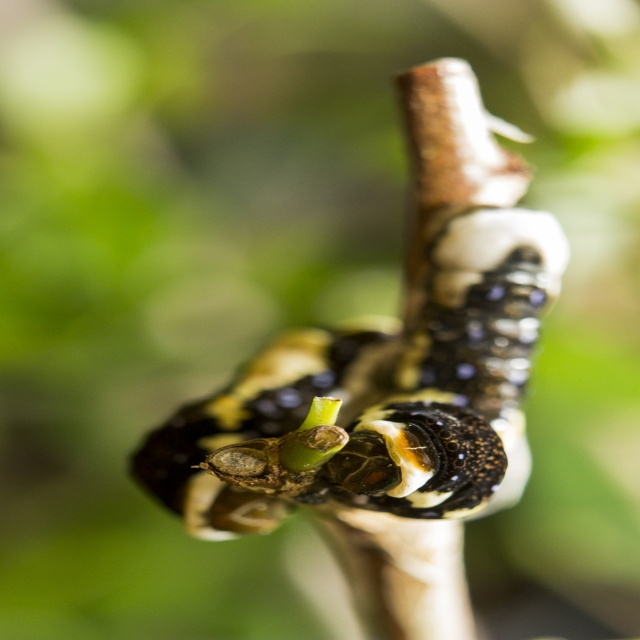Caterpillar: (322, 202, 568, 521), (122, 322, 411, 542)
